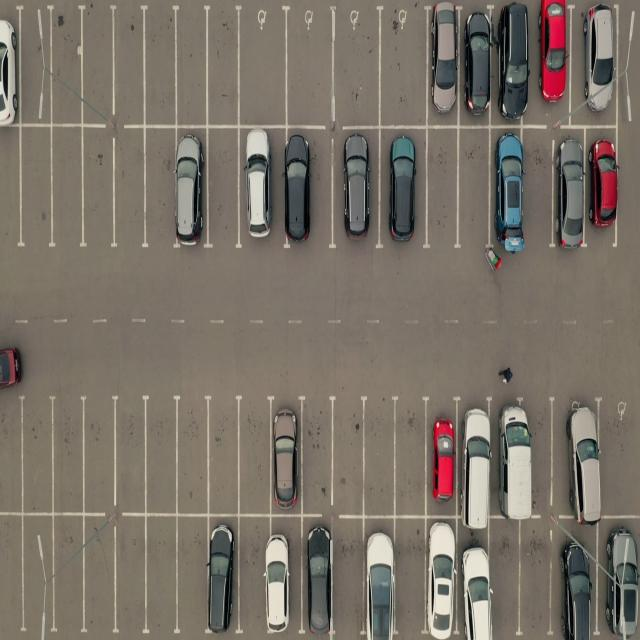space-empty: (238, 9, 289, 126), (377, 7, 425, 128), (287, 10, 337, 126), (333, 8, 380, 126), (45, 516, 87, 633), (46, 6, 86, 127), (48, 128, 86, 250), (142, 6, 180, 127), (601, 402, 640, 518), (175, 7, 212, 128), (205, 127, 242, 248), (15, 130, 52, 251), (113, 5, 150, 126), (16, 398, 54, 515), (205, 7, 242, 127), (78, 132, 115, 252), (77, 5, 114, 125), (79, 515, 116, 633), (17, 515, 54, 633), (141, 130, 177, 251), (49, 398, 86, 515), (177, 396, 214, 513), (112, 131, 148, 251), (143, 396, 180, 512), (78, 395, 115, 511), (458, 128, 493, 250), (115, 396, 152, 511), (142, 517, 178, 633), (359, 398, 395, 514), (239, 396, 275, 512), (235, 397, 271, 512), (520, 522, 556, 637), (115, 516, 150, 633), (205, 396, 240, 512), (331, 397, 366, 512), (177, 517, 211, 634), (424, 126, 457, 246), (302, 397, 337, 510), (394, 398, 428, 514), (332, 520, 366, 636), (396, 519, 429, 638), (298, 398, 332, 512), (524, 127, 556, 247), (15, 9, 48, 124), (488, 519, 520, 636), (0, 515, 24, 635), (0, 398, 24, 515), (0, 127, 22, 250)
space-occupied: (488, 127, 536, 251), (282, 130, 331, 251), (553, 395, 600, 519), (333, 130, 379, 250), (378, 129, 424, 249), (237, 123, 282, 245), (382, 125, 428, 244), (574, 1, 618, 124), (240, 129, 285, 249), (491, 396, 536, 516), (579, 4, 622, 124), (552, 534, 596, 639), (601, 519, 640, 637), (262, 513, 300, 634), (535, 1, 572, 123), (460, 398, 497, 518), (489, 128, 525, 251), (494, 5, 531, 124), (425, 6, 461, 126), (424, 397, 459, 516), (459, 518, 493, 638), (269, 396, 304, 512), (424, 518, 458, 637), (177, 130, 210, 251), (362, 517, 395, 638), (554, 130, 587, 246), (464, 7, 496, 125), (584, 127, 616, 241), (207, 516, 238, 632), (303, 523, 335, 634), (589, 131, 620, 245), (299, 523, 330, 635), (0, 6, 22, 125)
